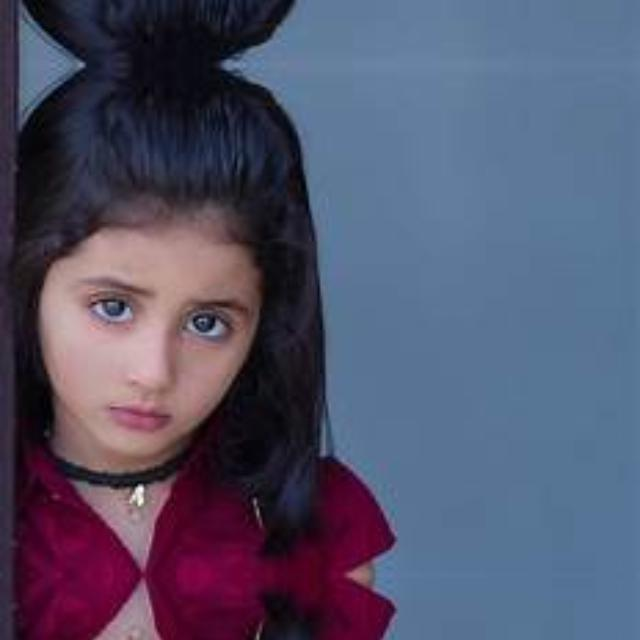person: (3, 66, 385, 574), (3, 574, 385, 640), (3, 0, 385, 62)
